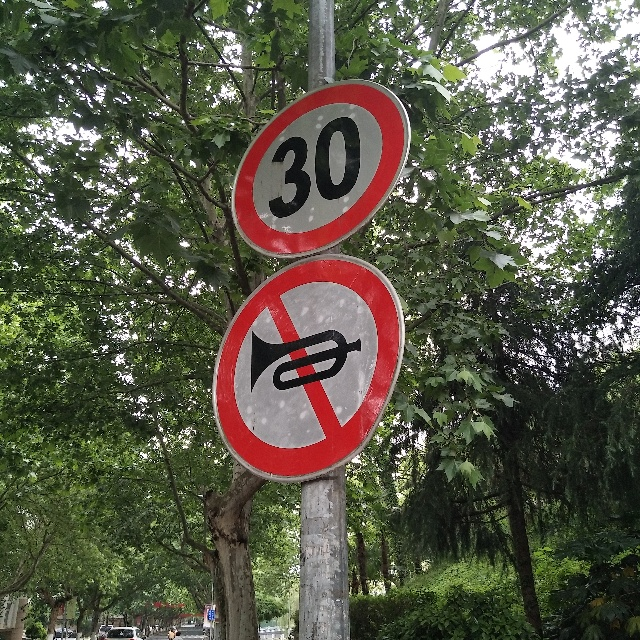nohonk: (211, 256, 409, 485)
